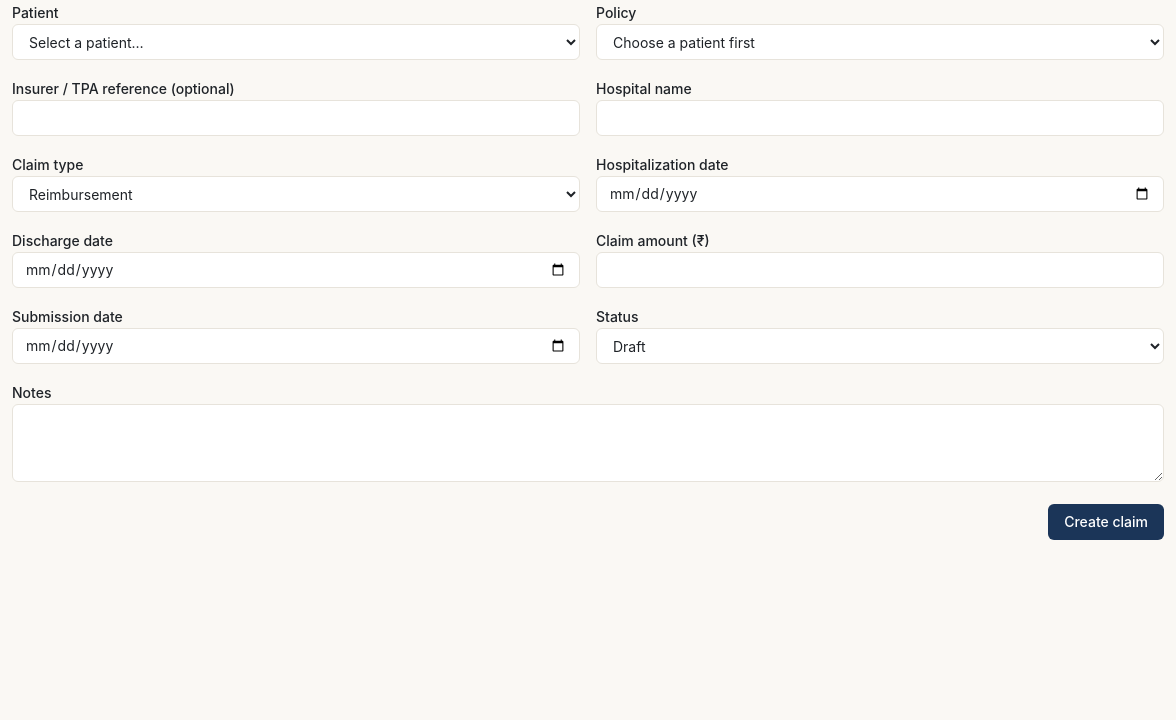
Test case: ClaimForm › requires the patient's policy and rejects discharge before hospitalization
expect the dropdown labelled "Policy" is disabled: met, box [596,24,1164,60]
Select "Asha Verma" in the dropdown labelled "Patient" at (296, 42), box [12,24,580,60]
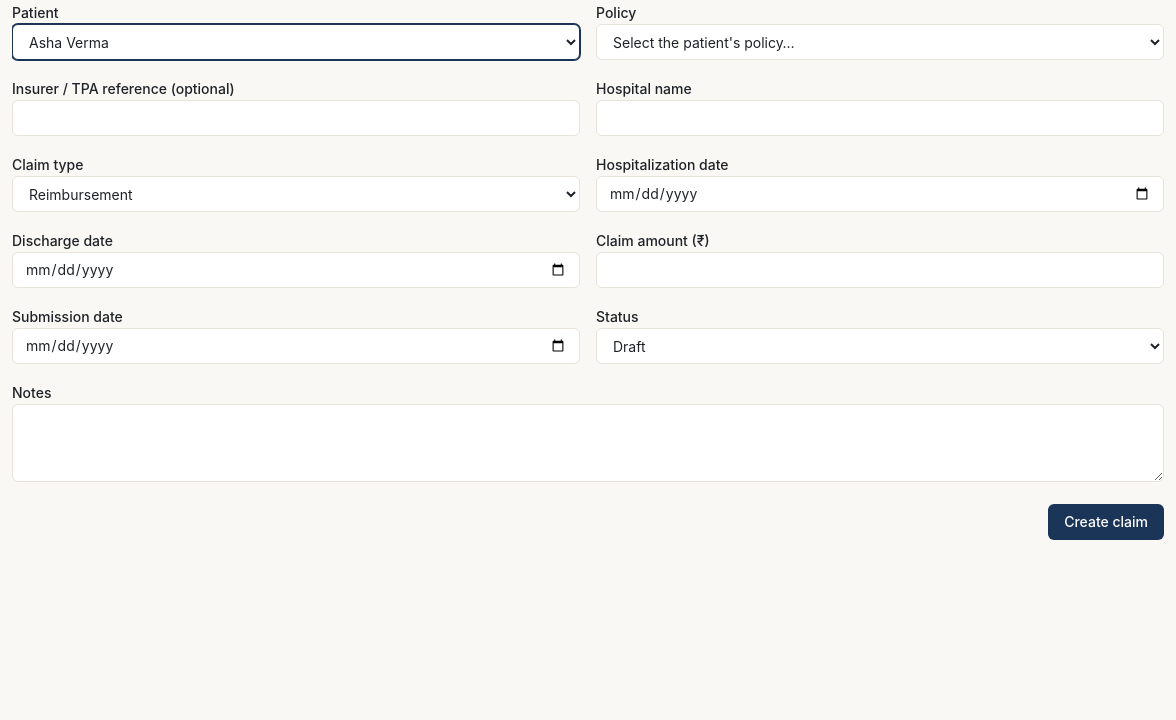
Type "2026-05-10" into the date field labelled "Hospitalization date".
click(880, 194); type("2026-05-10")  # box [596,176,1164,212]
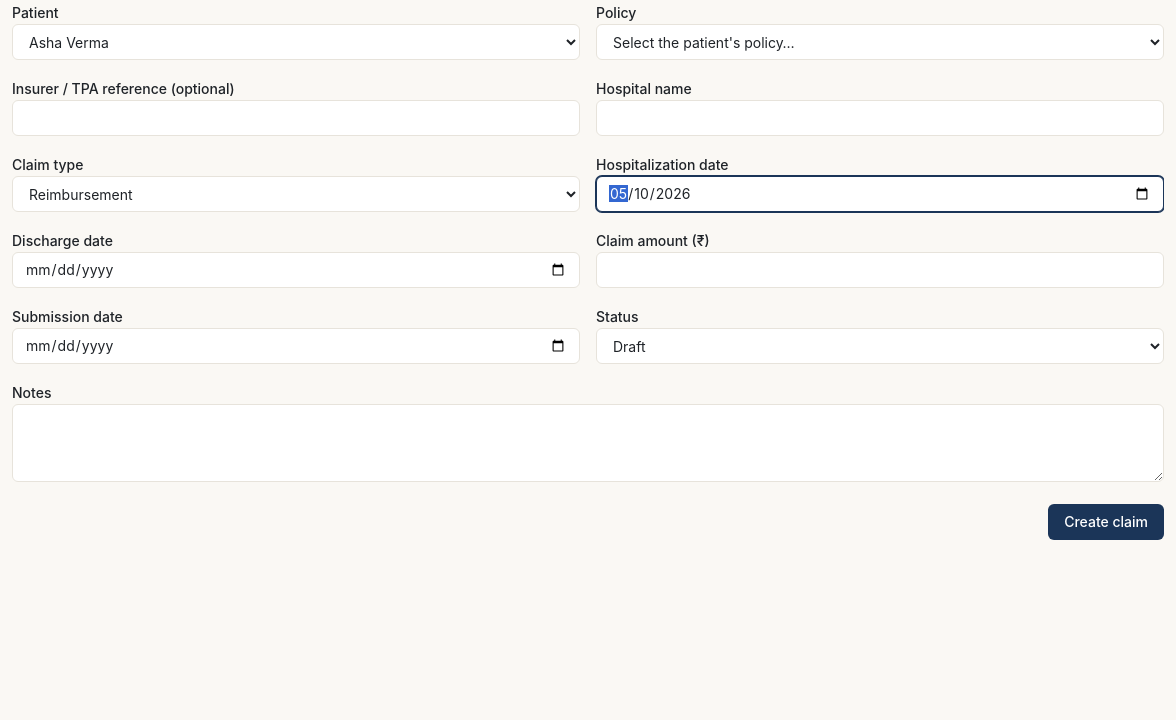
Type "2026-05-01" into the date field labelled "Discharge date".
click(296, 270); type("2026-05-01")  # box [12,252,580,288]
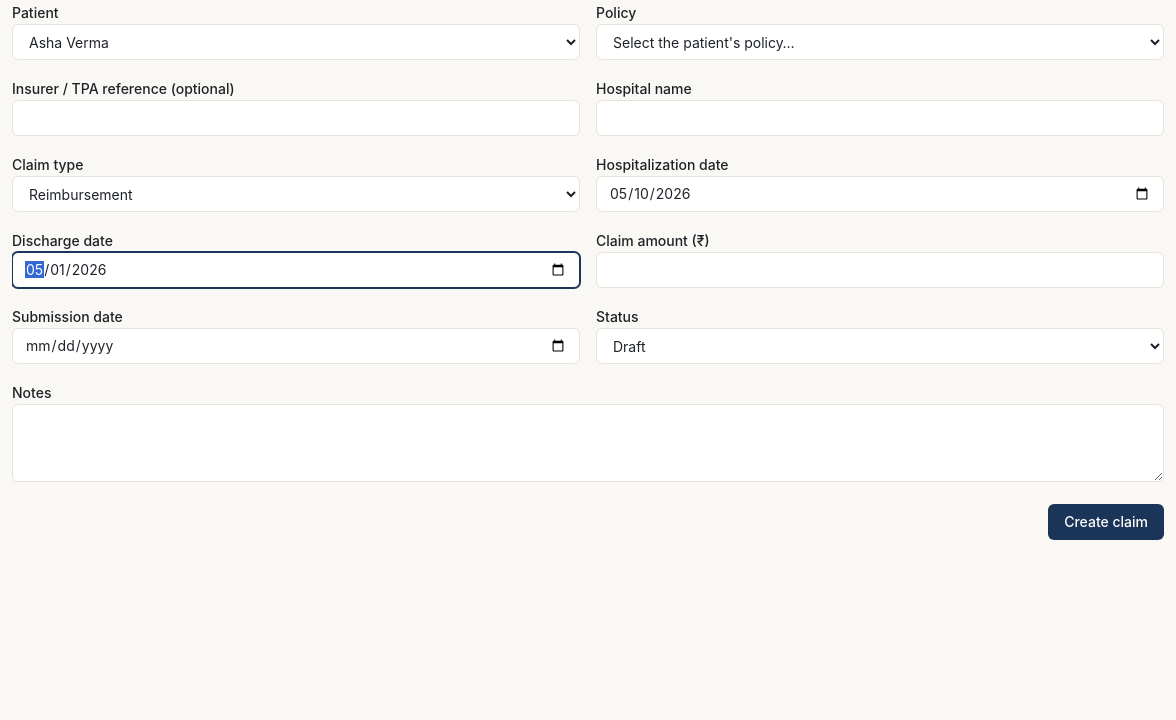
Click the button "Create claim".
click(1106, 522)  # box [1048,504,1164,540]
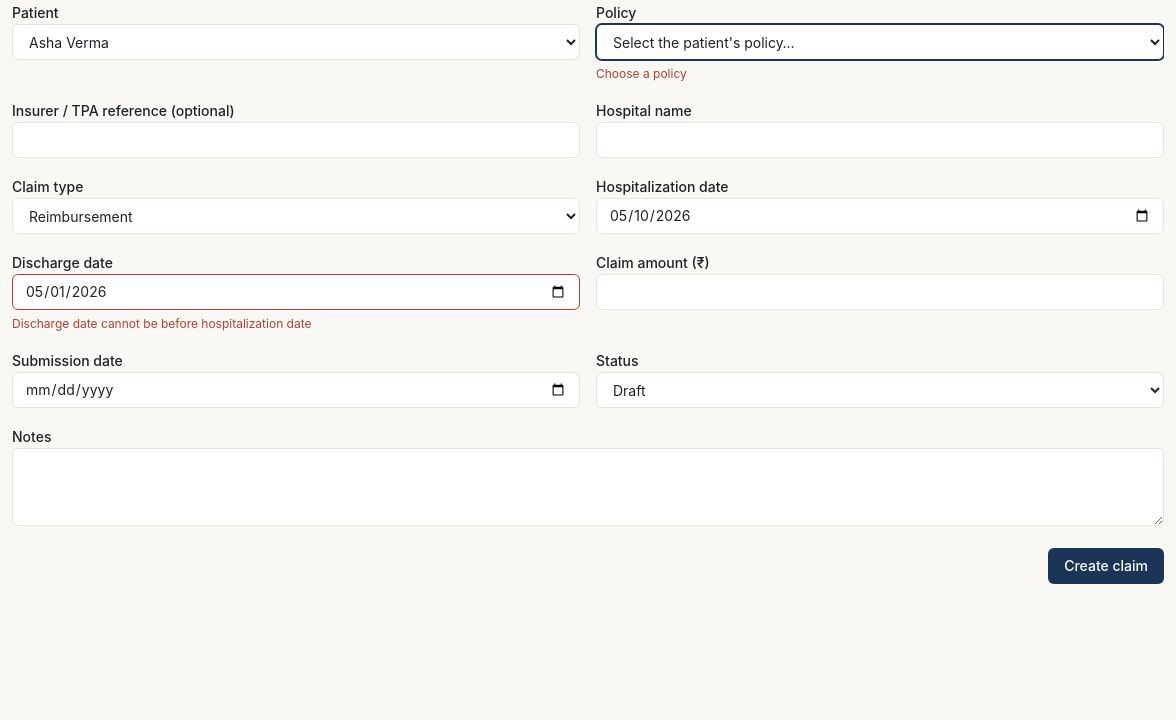
expect the text "Choose a policy" is shown: met, box [596,66,687,81]
expect the text "Discharge date cannot be before hospitalization date" is shown: met, box [12,316,312,331]
